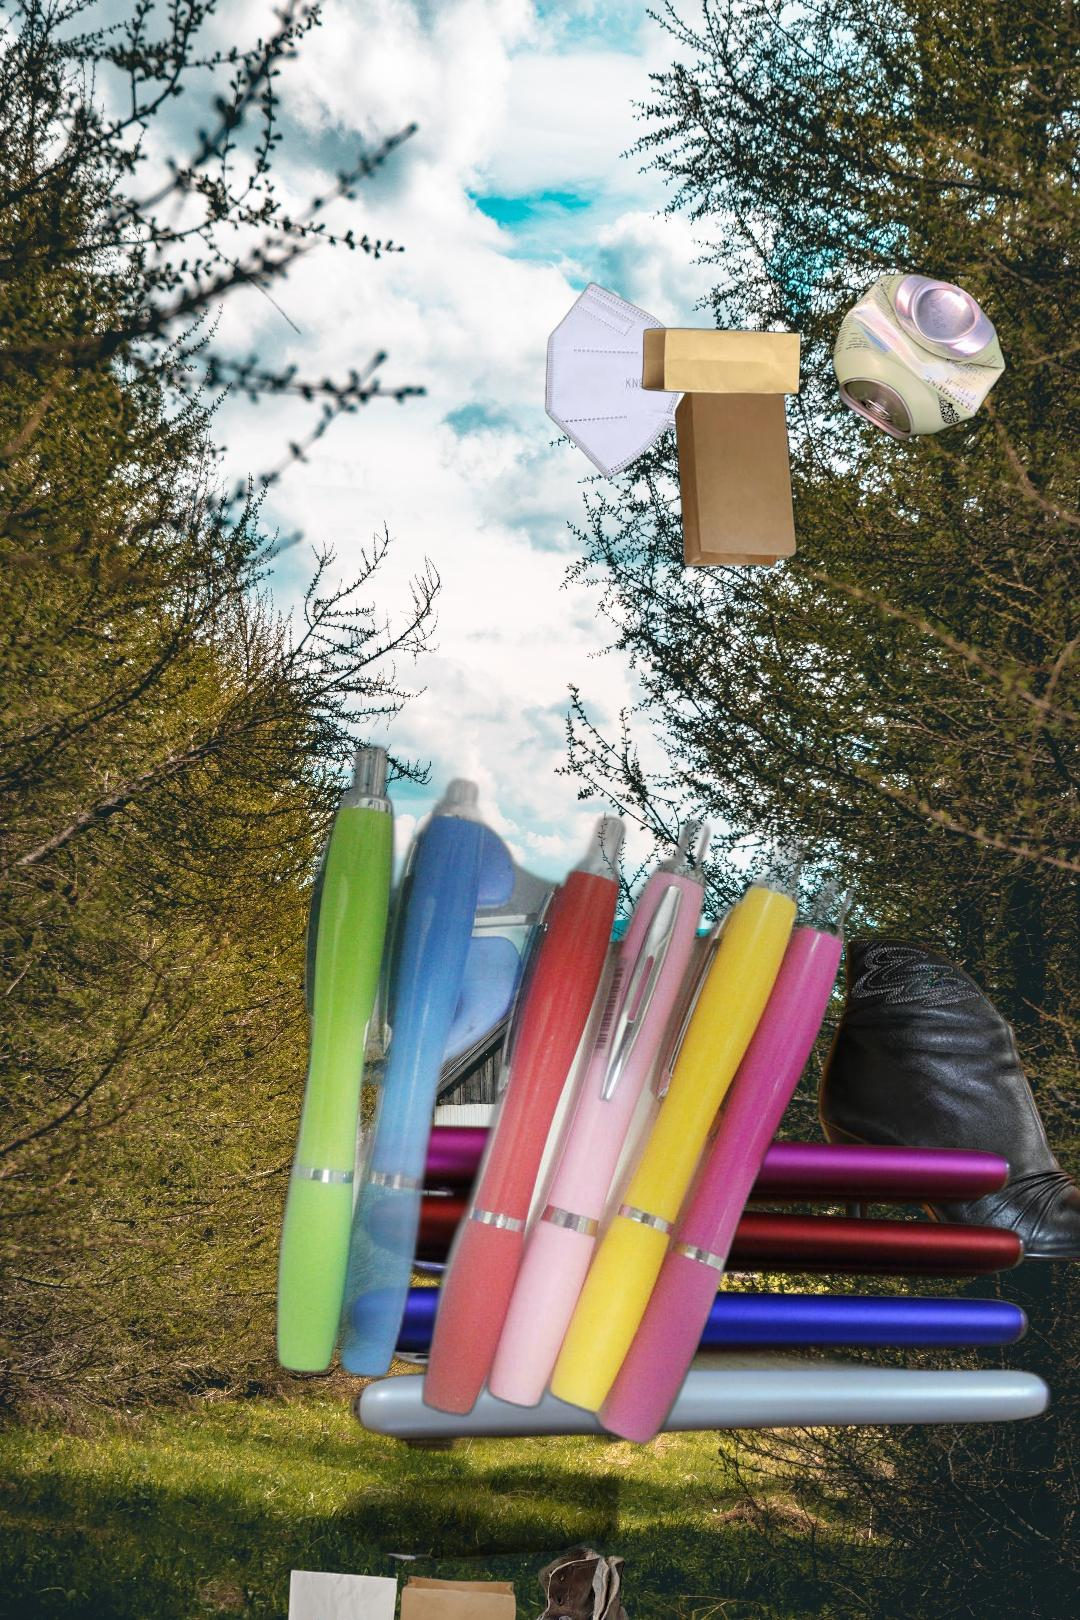metal-cans: (828, 268, 1011, 446)
paper-bag: (641, 325, 804, 571), (280, 1565, 520, 1620)
penholder: (261, 739, 881, 1452), (329, 1120, 1072, 1571)
shoes: (812, 935, 1080, 1278), (474, 1545, 637, 1620)
trash: (542, 280, 767, 481)
